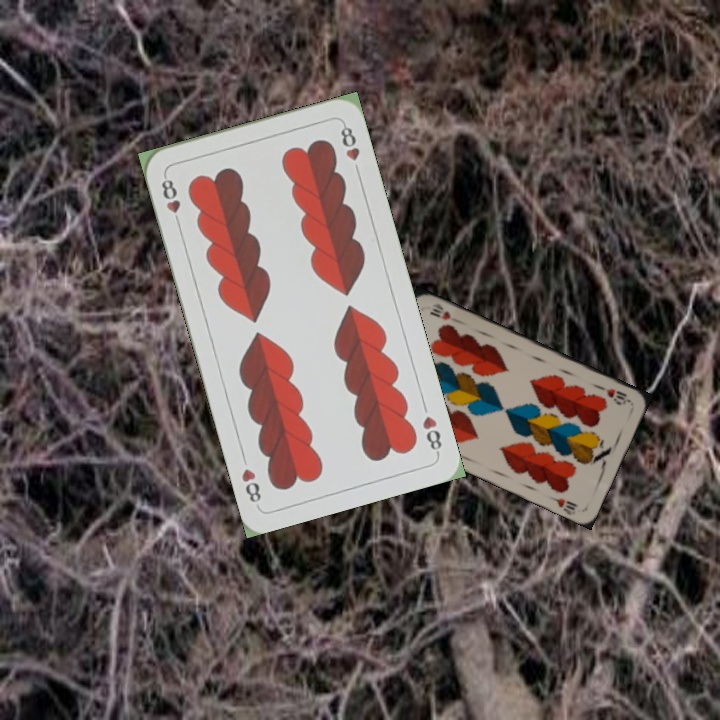H10: (594, 381, 632, 407)
H8: (157, 171, 184, 229), (418, 411, 445, 457)
